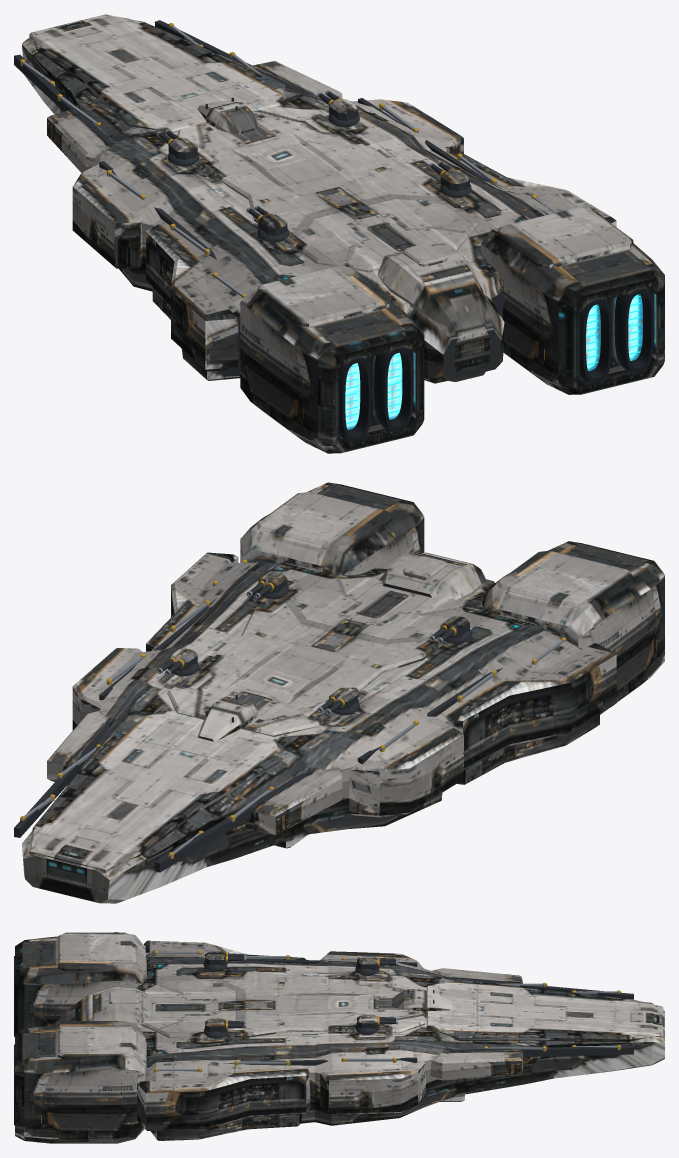
File: titan.glb
The picture shows the model from 3 angles, top to bottom: view 1: azimuth 30°, elevation 25°; view 2: azimuth 150°, elevation 25°; view 3: azimuth 270°, elevation 25°; orthographic projection. The views are drawn at different scales.
Visible parts, largest first — view 1: Reference artwork | titanium, brass, panels and canopy, Structural rails | dark alloy, Structural frames | gunmetal, Machined titanium edges, Ventral armor | dedicated bottom-view reference, Cyan luminous apertures; view 2: Reference artwork | titanium, brass, panels and canopy, Structural frames | gunmetal, Machined titanium edges, Ventral armor | dedicated bottom-view reference; view 3: Reference artwork | titanium, brass, panels and canopy, Structural frames | gunmetal, Ventral armor | dedicated bottom-view reference, Machined titanium edges, turret.port.1 / Structural frames | gunmetal, turret.starboard.1 / Structural frames | gunmetal, turret.starboard.2 / Structural frames | gunmetal, turret.port.2 / Structural frames | gunmetal.
Boxes of the visible parts, <box> form: Reference artwork | titanium, brass, panels and canopy: <box>22,14,664,452</box>; Structural rails | dark alloy: <box>60,90,654,441</box>; Structural frames | gunmetal: <box>14,20,503,380</box>; Machined titanium edges: <box>20,24,557,296</box>; Ventral armor | dedicated bottom-view reference: <box>115,266,653,453</box>; Cyan luminous apertures: <box>345,296,640,423</box>; Reference artwork | titanium, brass, panels and canopy: <box>22,482,664,903</box>; Structural frames | gunmetal: <box>14,560,557,872</box>; Machined titanium edges: <box>20,560,566,858</box>; Ventral armor | dedicated bottom-view reference: <box>48,678,649,903</box>; Reference artwork | titanium, brass, panels and canopy: <box>15,932,664,1139</box>; Structural frames | gunmetal: <box>147,957,633,1132</box>; Ventral armor | dedicated bottom-view reference: <box>15,1039,664,1143</box>; Machined titanium edges: <box>153,951,621,1071</box>; turret.port.1 / Structural frames | gunmetal: <box>355,958,395,975</box>; turret.starboard.1 / Structural frames | gunmetal: <box>355,1017,395,1034</box>; turret.starboard.2 / Structural frames | gunmetal: <box>203,1020,244,1038</box>; turret.port.2 / Structural frames | gunmetal: <box>203,953,244,971</box>.
Bounding box in the file's own units: 10.25 × 3.17 × 18.65.
7 materials, 2 textured.
